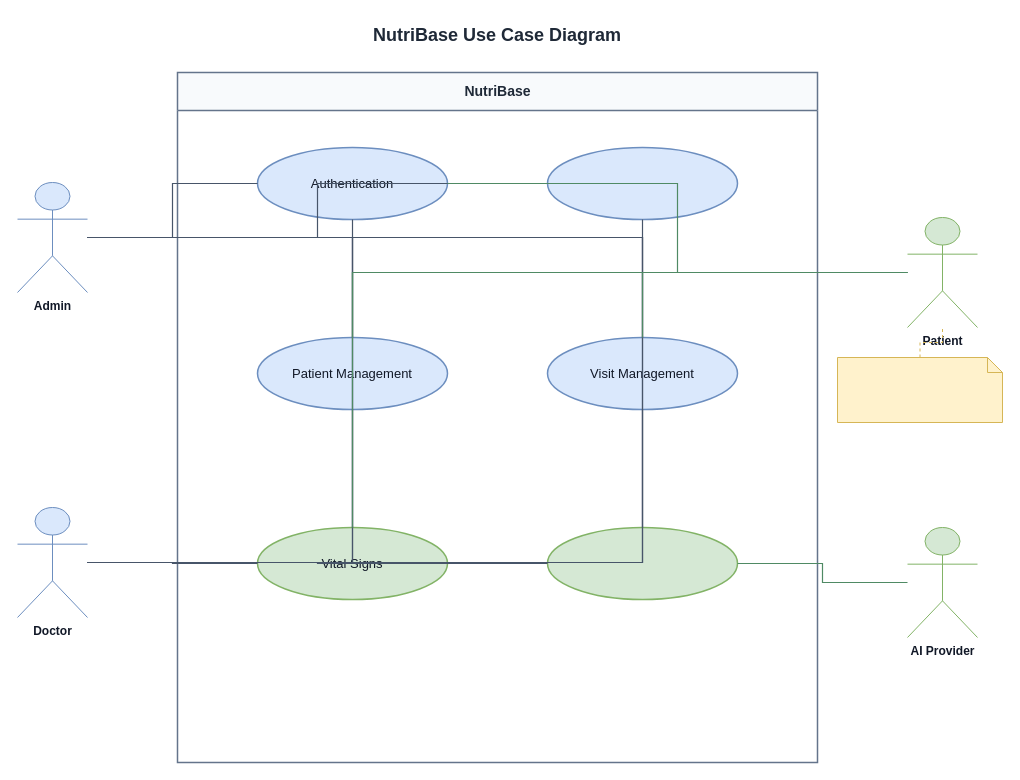
Image size: 1020x780. Some labels were removed from this diagram. The box of each missing label's shape, as (x1, y1, x2, y2) in pixels:
Diet Plan Management: (546, 526, 738, 600)
Patient: read-only access to own clinical records.: (836, 356, 1002, 422)
User Management: (546, 146, 738, 220)
